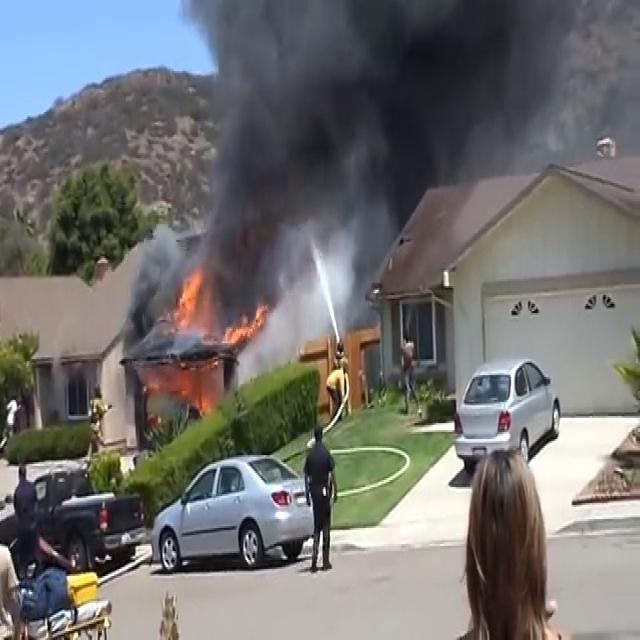Fire: (168, 262, 208, 336), (219, 292, 268, 343)
Smoke: (150, 0, 528, 318)
